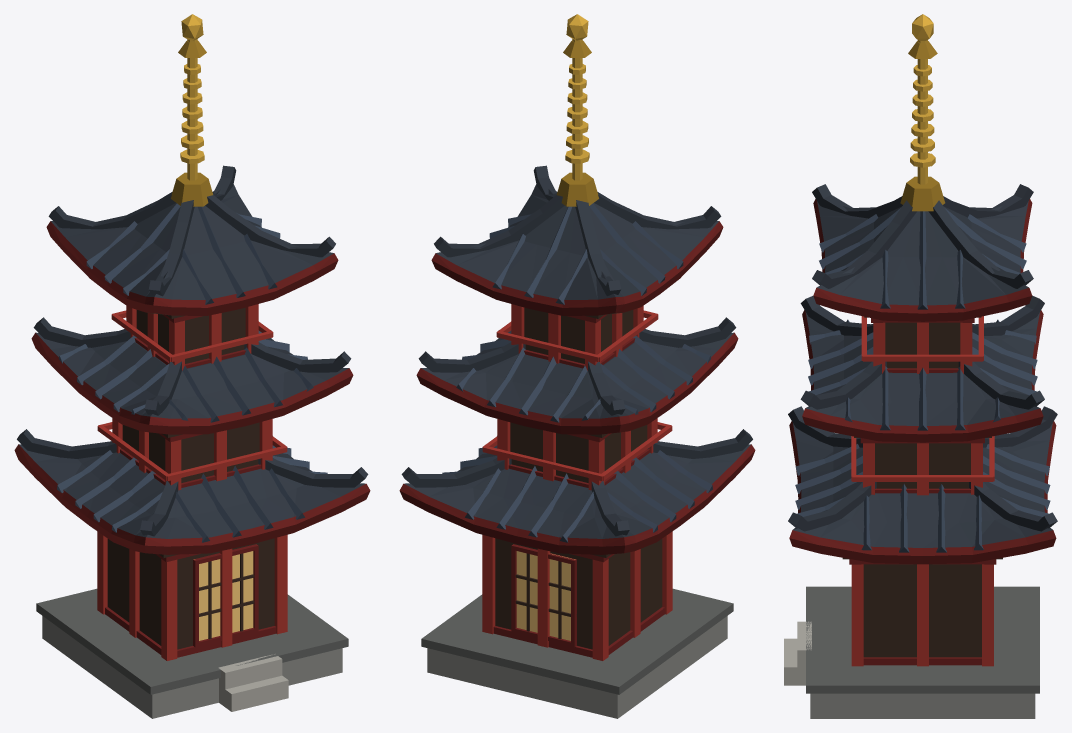
Rendered from pagoda_small.fbx.
3 renders of one model, left to right at view 1: azimuth 30°, elevation 25°; view 2: azimuth 150°, elevation 25°; view 3: azimuth 270°, elevation 25°, orthographic. The views are drawn at different scales.
Parts seen in each view (by area): view 1: pagoda_small; view 2: pagoda_small; view 3: pagoda_small.
Part boxes in pixels (bbox=[...]): pagoda_small: bbox=[14, 14, 370, 718]; pagoda_small: bbox=[399, 14, 755, 718]; pagoda_small: bbox=[784, 14, 1057, 718].
Size of the model in its own units: 3.6 by 9.67 by 3.65.
